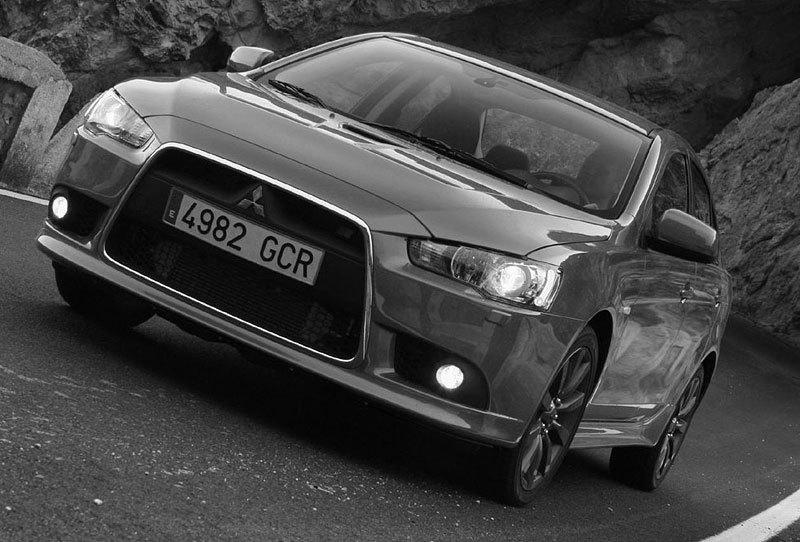car: (32, 28, 730, 512)
